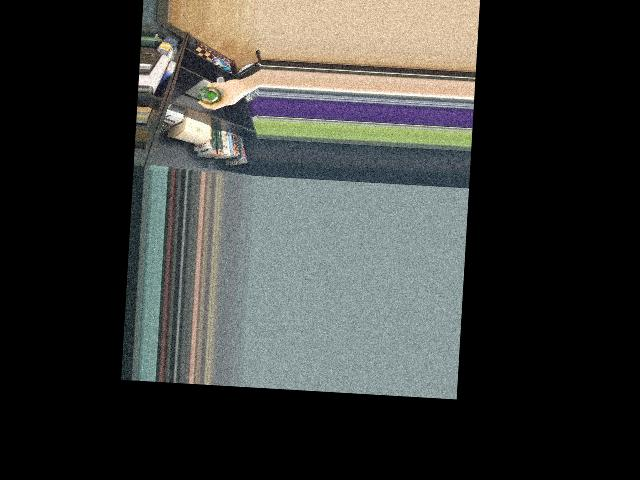beer: (199, 85, 221, 104)
